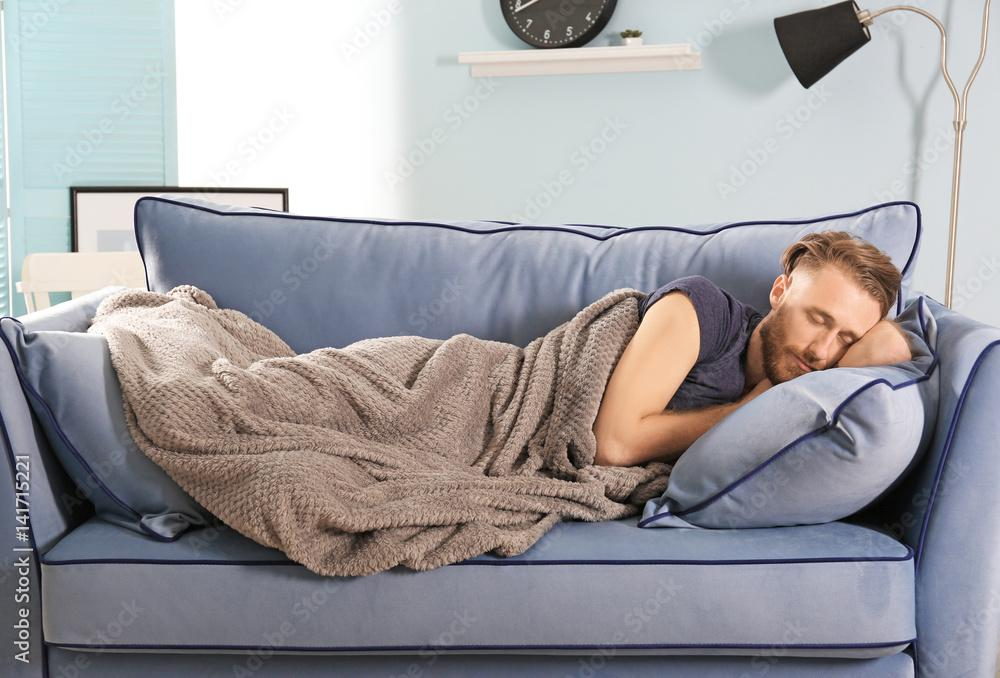blanket: (88, 284, 670, 581)
short sleeve shirt: (640, 269, 764, 469)
